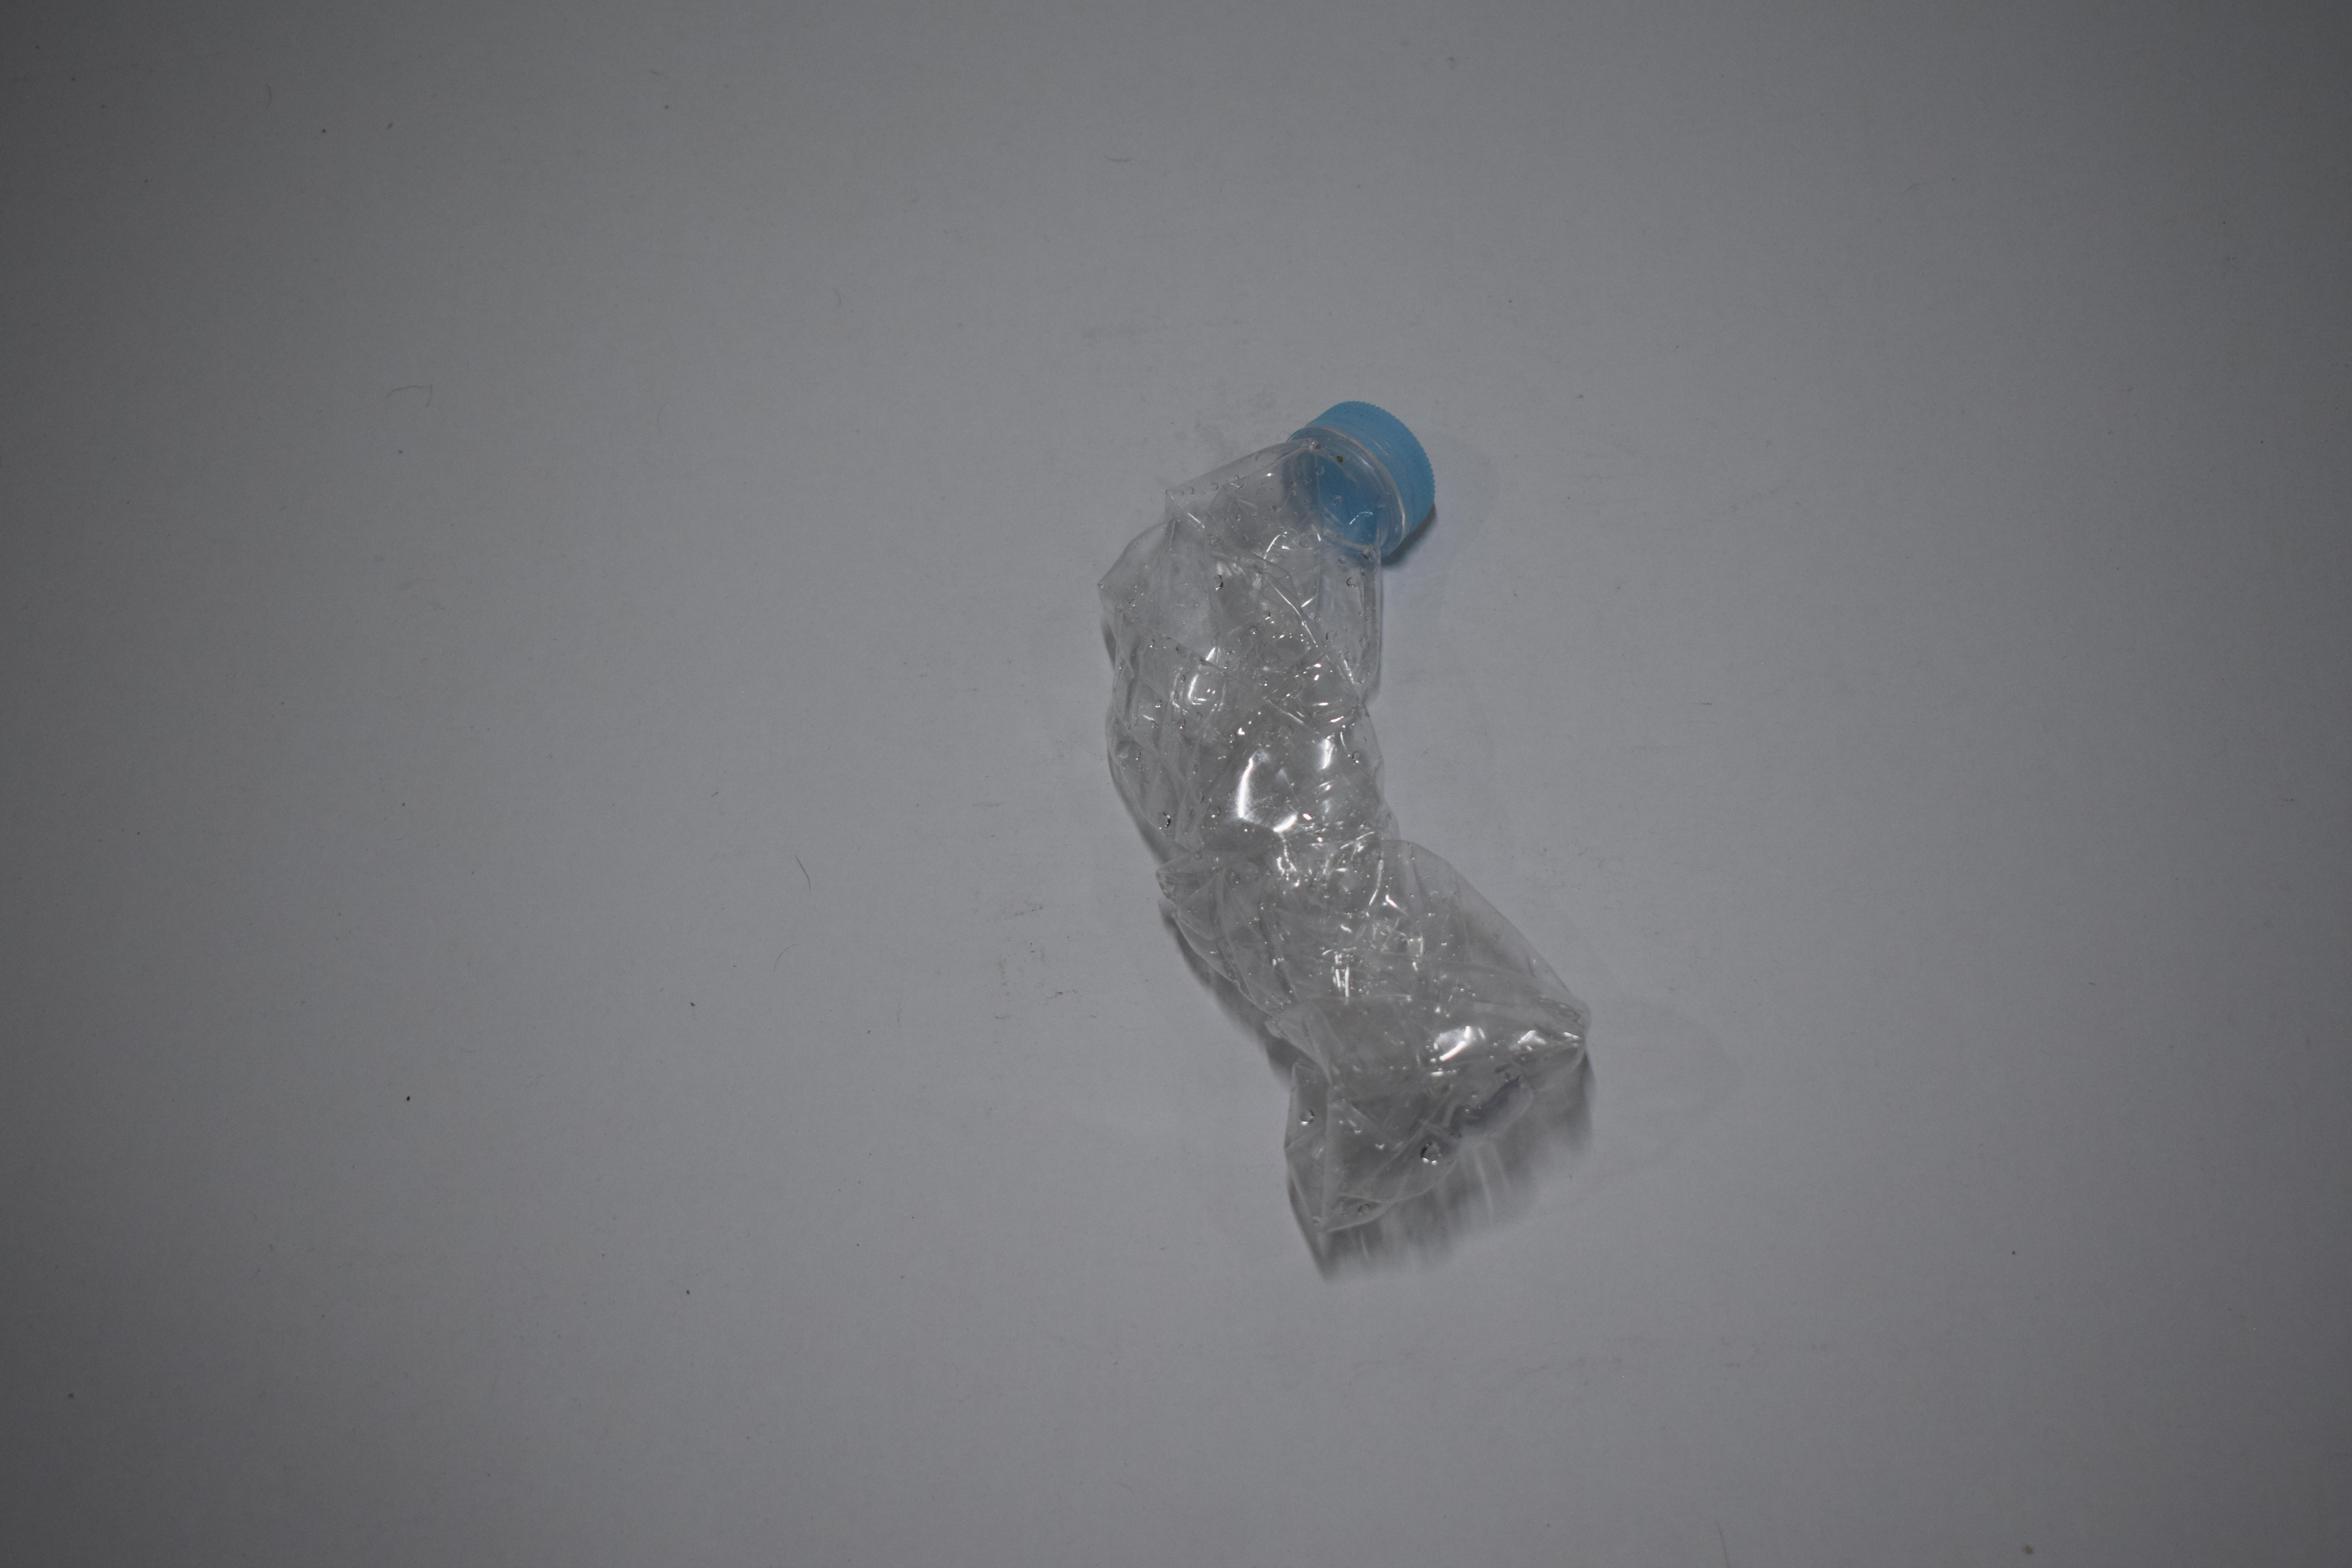bottle: (0, 0, 424, 95)
